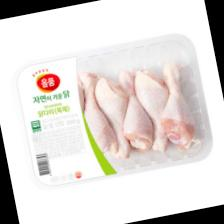chicken: (150, 58, 200, 154), (130, 65, 181, 156), (92, 72, 140, 163), (112, 66, 158, 156)
